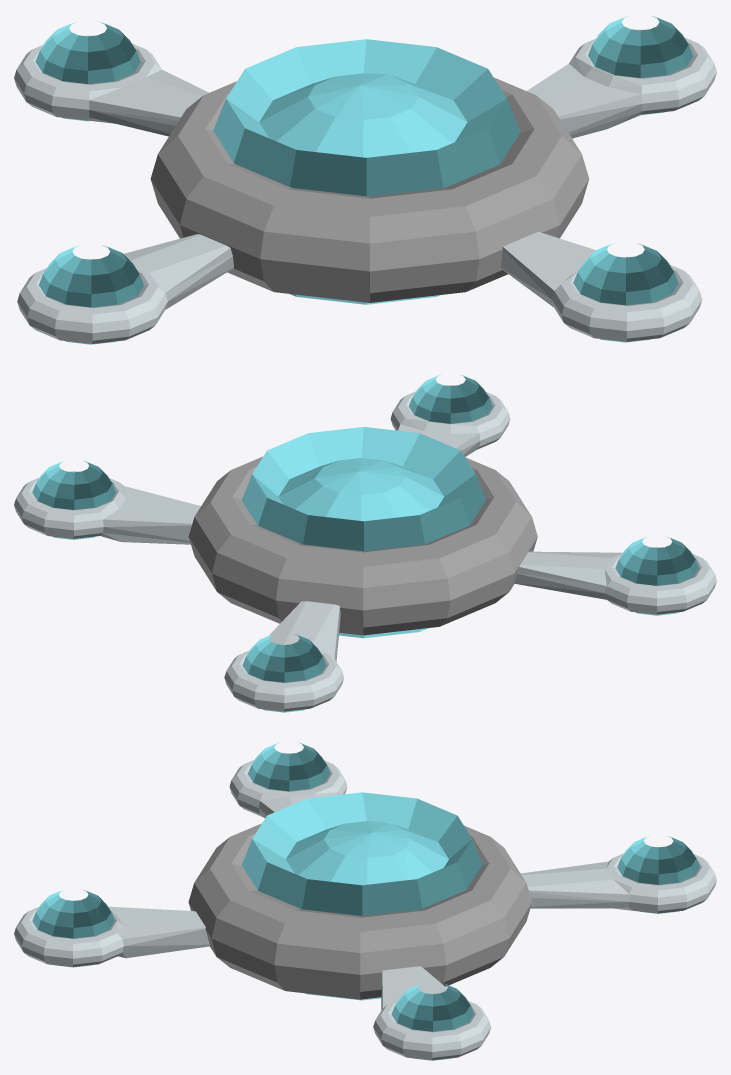
The model's file is Anti-Gravity Drone.glb.
3 views of the same model, one above another, from view 1: azimuth 30°, elevation 25°; view 2: azimuth 150°, elevation 25°; view 3: azimuth 270°, elevation 25° (orthographic). The views are drawn at different scales.
Visible parts, largest first — view 1: Node; view 2: Node; view 3: Node.
Part boxes in pixels (left/top/right/bottom): Node: left=14, top=15, right=716, bottom=344; Node: left=14, top=374, right=716, bottom=712; Node: left=14, top=742, right=716, bottom=1060.
Size of the model in its own units: 1.36 by 0.2957 by 1.37.
